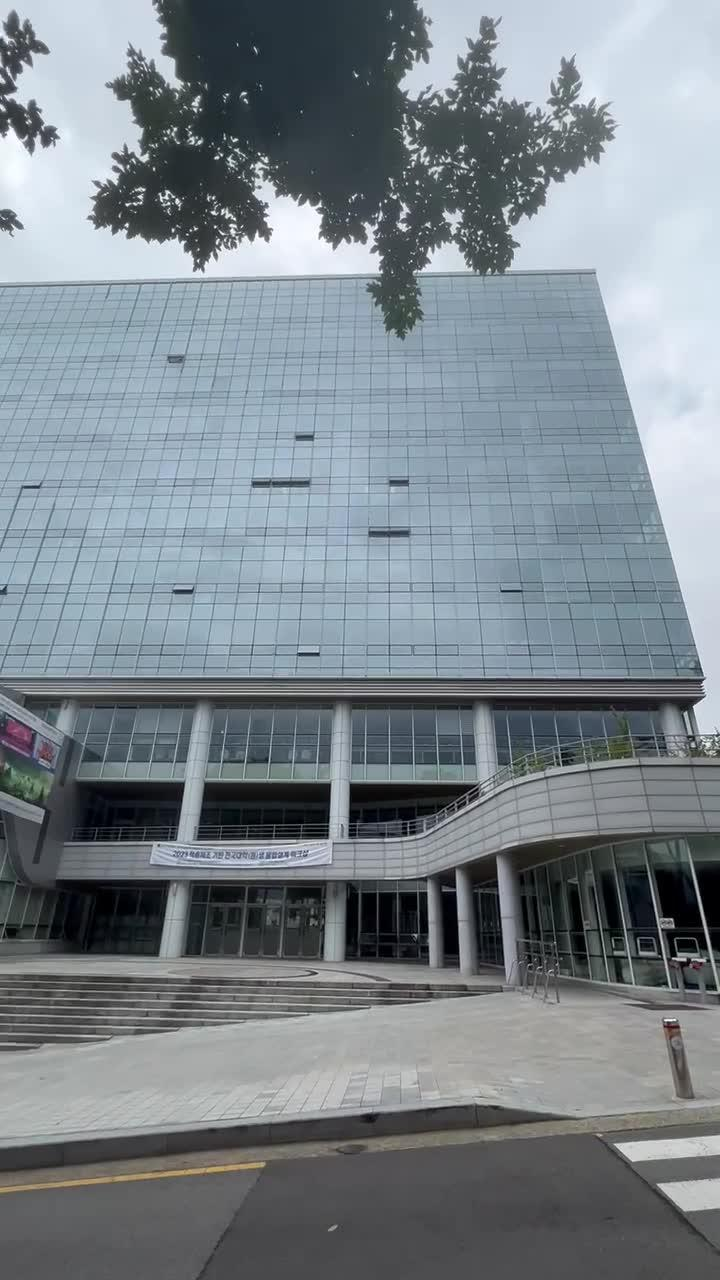building: (42, 264, 702, 926)
